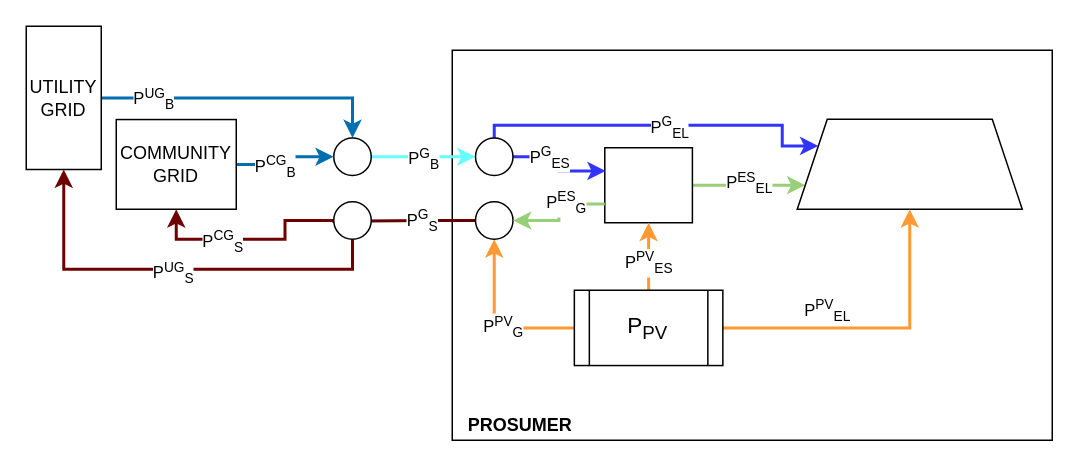
The diagram is 1079 pixels wide and 467 high, and some of its shapes have lost their labels. Here are the shapes that lost their labels. From the top down, the centre of each, then its label:
pixel 909 163: Electrical Load P EL
pixel 647 184: Electrical Storage b(t)
